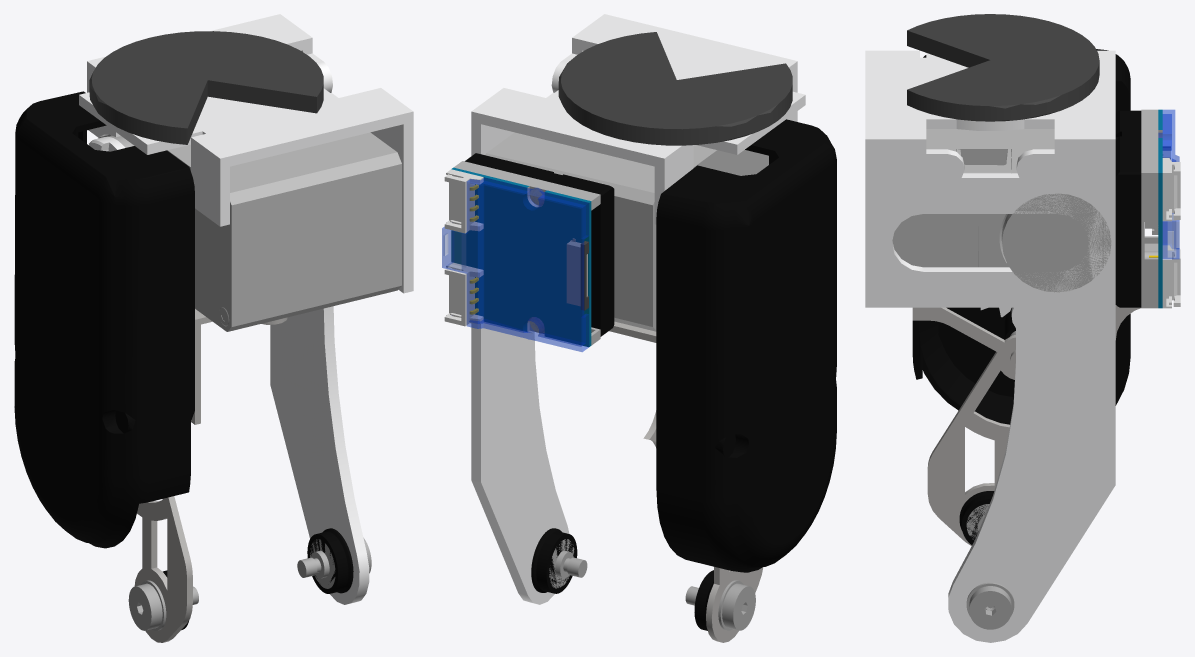
File: r_forearm_link.dae
The picture shows the model from 3 angles, left to right: view 1: azimuth 30°, elevation 25°; view 2: azimuth 150°, elevation 25°; view 3: azimuth 270°, elevation 25°; orthographic projection. The views are drawn at different scales.
Parts seen in each view (by area): view 1: FBXASC227FBXASC130FBXASC189FBXASC227FBXASC131FBXASC170FBXASC (×8); view 2: FBXASC227FBXASC130FBXASC189FBXASC227FBXASC131FBXASC170FBXASC (×16); view 3: FBXASC227FBXASC130FBXASC189FBXASC227FBXASC131FBXASC170FBXASC (×14).
Boxes of the visible parts, <box> form: FBXASC227FBXASC130FBXASC189FBXASC227FBXASC131FBXASC170FBXASC (×8): <box>14,14,413,642</box>; FBXASC227FBXASC130FBXASC189FBXASC227FBXASC131FBXASC170FBXASC (×16): <box>442,14,836,642</box>; FBXASC227FBXASC130FBXASC189FBXASC227FBXASC131FBXASC170FBXASC (×14): <box>865,14,1180,642</box>.
Size of the model in its own units: 0.0724 by 0.0737 by 0.134.
